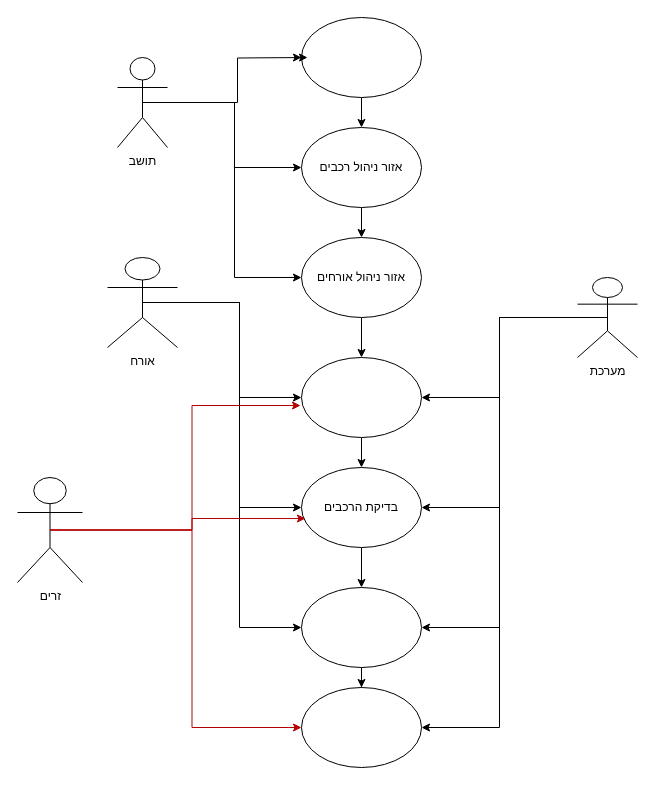
The diagram is 655 pixels wide and 785 high, and some of its shapes have lost their labels. Each missing label, with the centre of its shape:
הקפצת כיתה כוננות: the point at 361,727
התחברות למערכת בתור תושב: the point at 361,57
זיהוי רכבים הנכנסים: the point at 361,397
קבלת אישור כניסה: the point at 361,627
